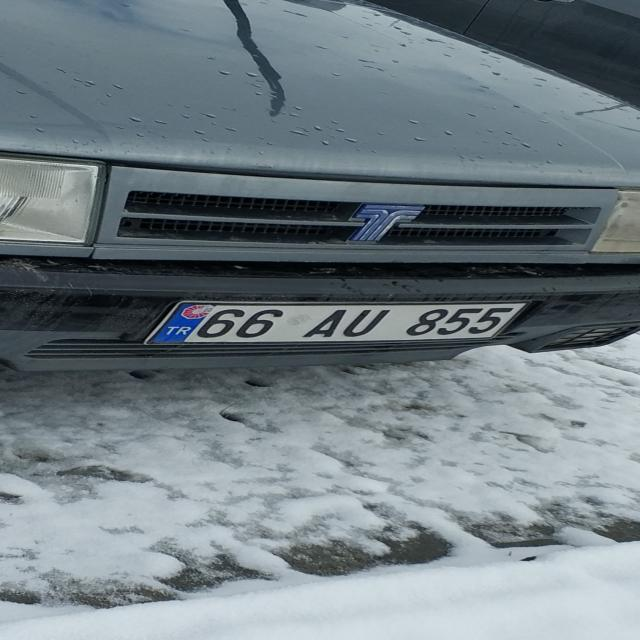plate: (141, 301, 533, 343)
